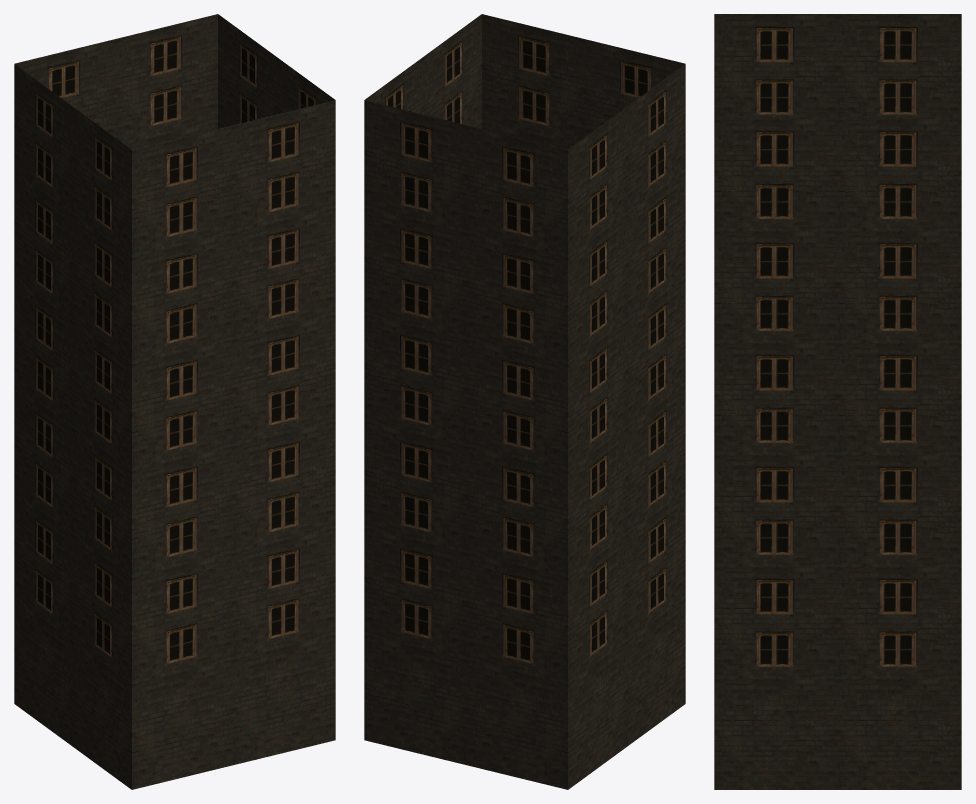
File: building.fbx
3 views of the same model, side by side, from view 1: azimuth 30°, elevation 25°; view 2: azimuth 150°, elevation 25°; view 3: azimuth 270°, elevation 25° (orthographic). The views are drawn at different scales.
Visible parts, largest first — view 1: BG.001; view 2: BG.001; view 3: BG.001.
Boxes of the visible parts, box(x1,y1,x2,y2) form: BG.001: box(14, 14, 335, 789); BG.001: box(364, 14, 685, 789); BG.001: box(714, 14, 961, 789).
Size of the model in its own units: 1440 by 4320 by 1440.
